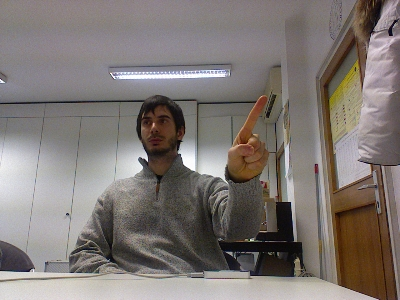食指: (225, 93, 270, 180)
